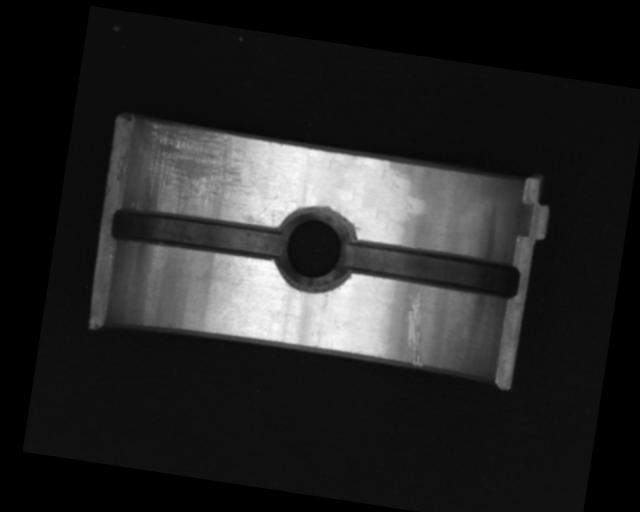gap: (342, 236, 522, 304), (108, 202, 281, 265)
hole: (270, 202, 361, 295)
nick: (397, 290, 434, 368)
scratch: (128, 117, 261, 223)
